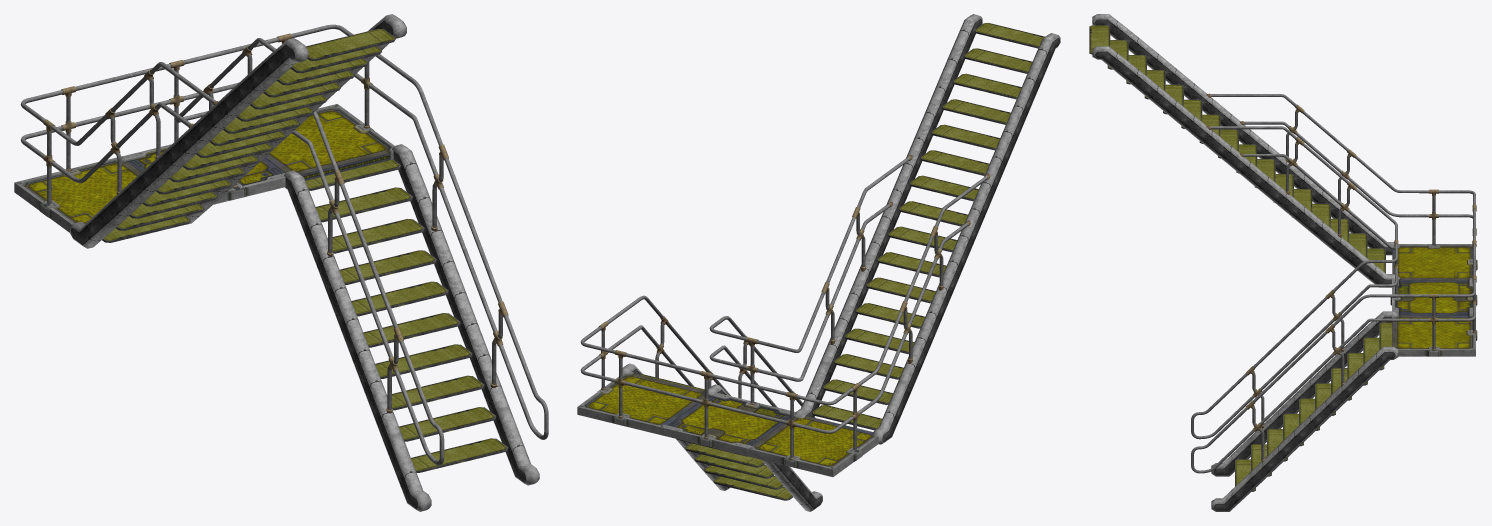
File: 01_02_stairway_main_floor_pplant.dae
3 views of the same model, side by side, from view 1: azimuth 30°, elevation 25°; view 2: azimuth 150°, elevation 25°; view 3: azimuth 270°, elevation 25° (orthographic). The views are drawn at different scales.
Parts seen in each view (by area): view 1: stairs, railing, 01_02_stairway_main_floor; view 2: stairs, 01_02_stairway_main_floor, railing; view 3: stairs, railing, 01_02_stairway_main_floor.
Part boxes in pixels (box(x1,y1,x2,y2)): stairs: box(70, 14, 539, 511); railing: box(20, 24, 548, 465); 01_02_stairway_main_floor: box(14, 104, 394, 232); stairs: box(622, 14, 1060, 511); 01_02_stairway_main_floor: box(577, 372, 878, 476); railing: box(580, 155, 990, 459); stairs: box(1089, 14, 1399, 511); railing: box(1191, 93, 1476, 473); 01_02_stairway_main_floor: box(1390, 244, 1477, 356).
Bounding box in the file's own units: 6.15 × 10.3 × 9.26.
